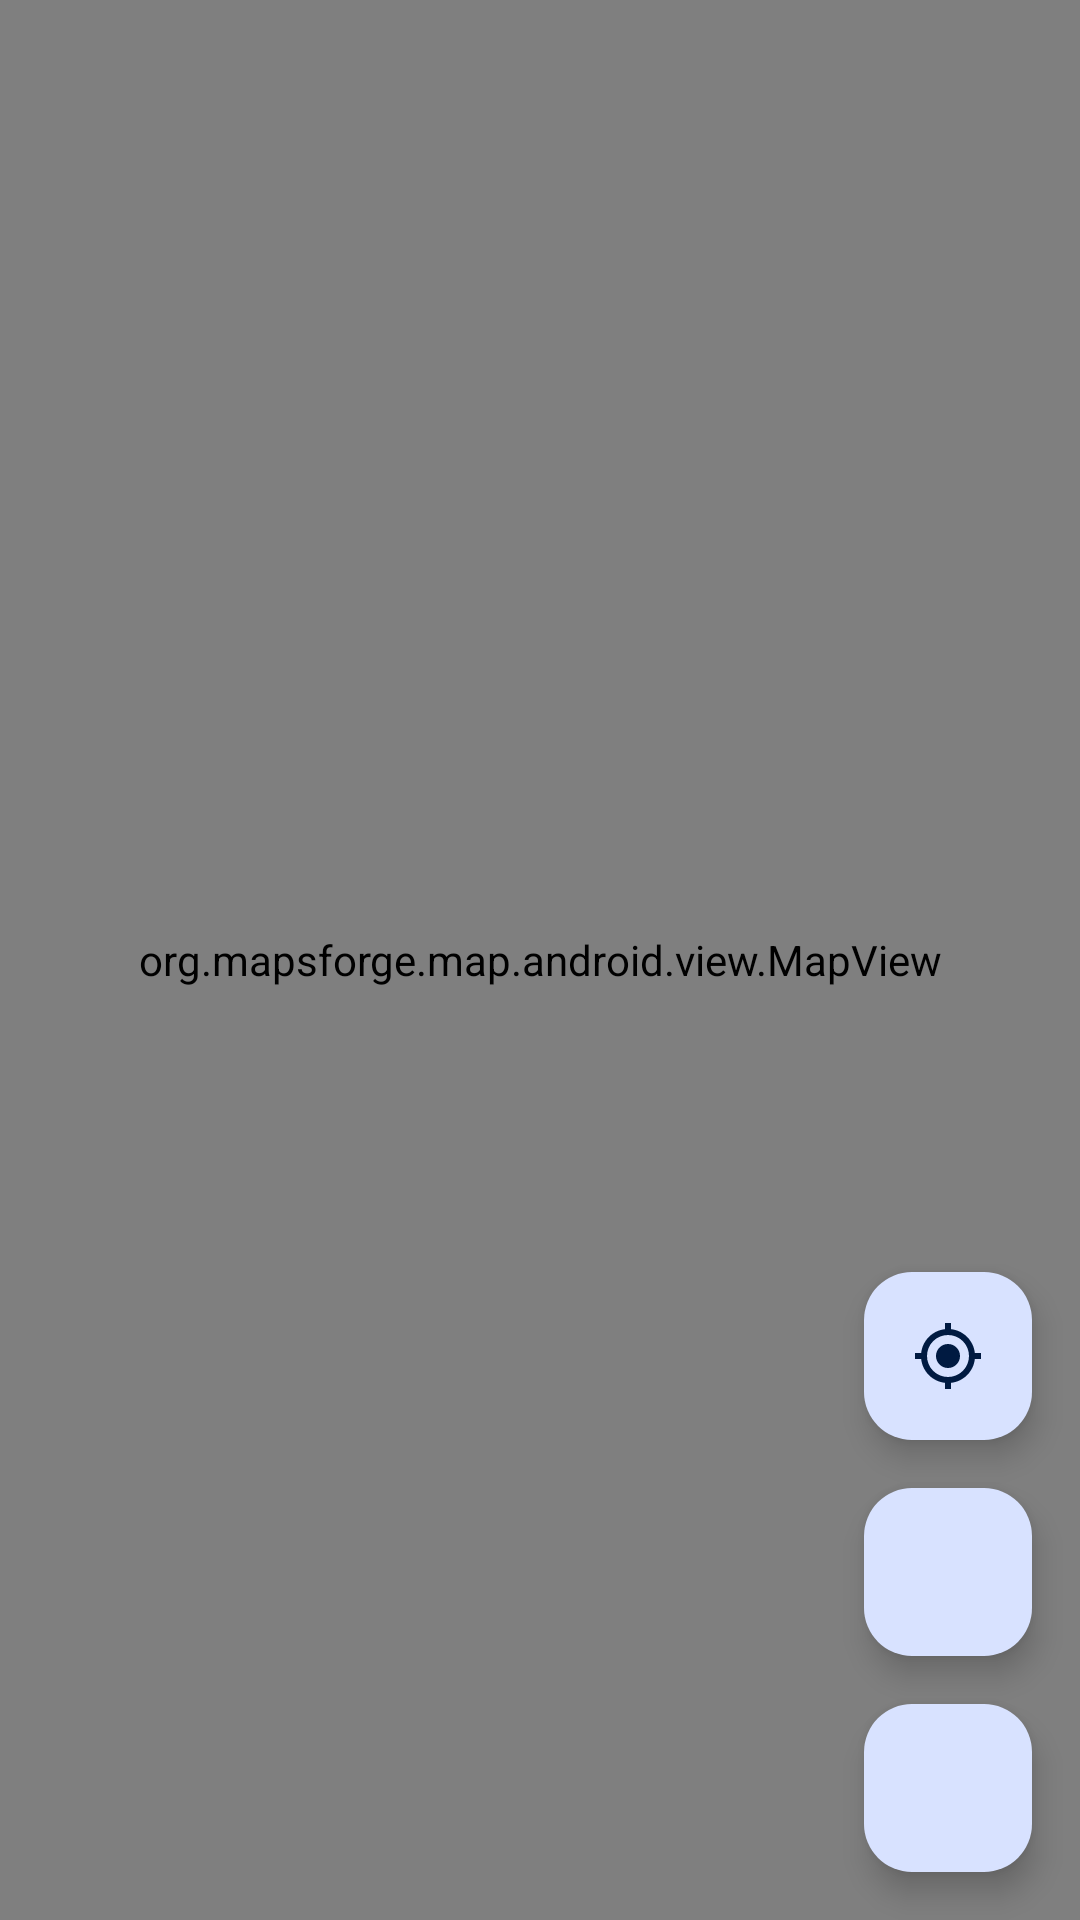

Screen size 1080w x 1920h. Icon name, then its box in pixels as {"x1": x1, "y1": y1, "x2": x2, "y2": y2}:
My location: {"x1": 864, "y1": 1272, "x2": 1032, "y2": 1440}
